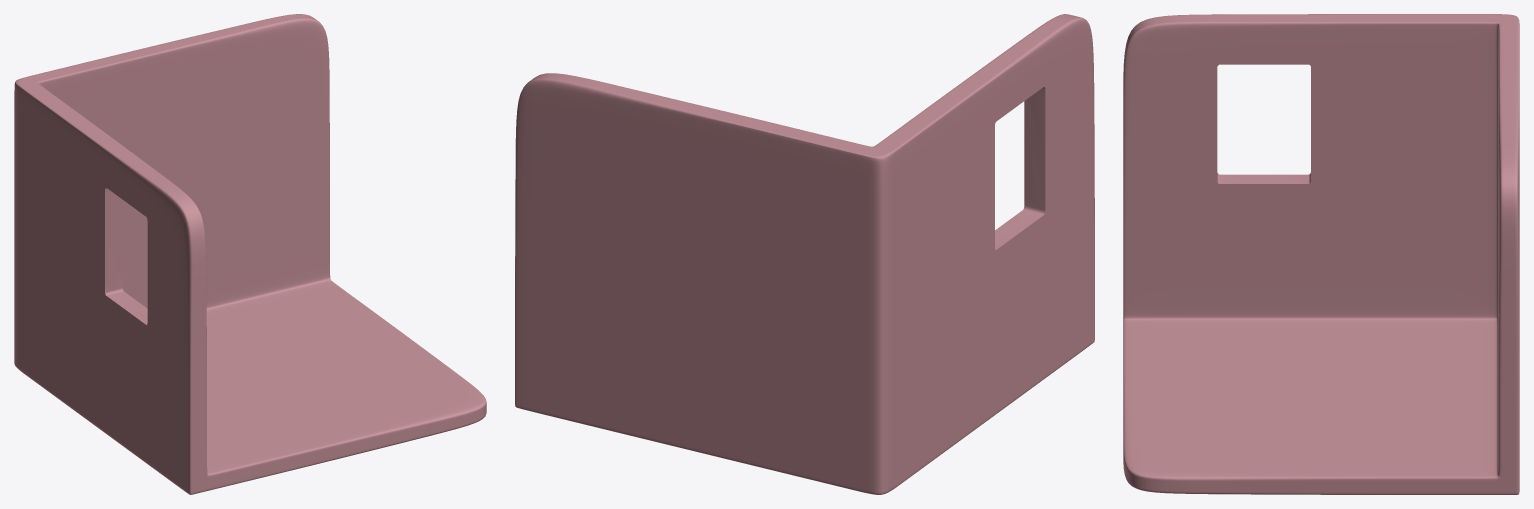
File: room-pink.glb
The picture shows the model from 3 angles, left to right: view 1: azimuth 30°, elevation 25°; view 2: azimuth 150°, elevation 25°; view 3: azimuth 270°, elevation 25°; orthographic projection. The views are drawn at different scales.
Parts seen in each view (by area): view 1: Boolean; view 2: Boolean; view 3: Boolean.
Boxes of the visible parts, left/top/right/bottom form: Boolean: left=14, top=14, right=486, bottom=494; Boolean: left=515, top=14, right=1094, bottom=494; Boolean: left=1123, top=14, right=1519, bottom=494.
Size of the model in its own units: 8.12 by 7.12 by 8.12.
